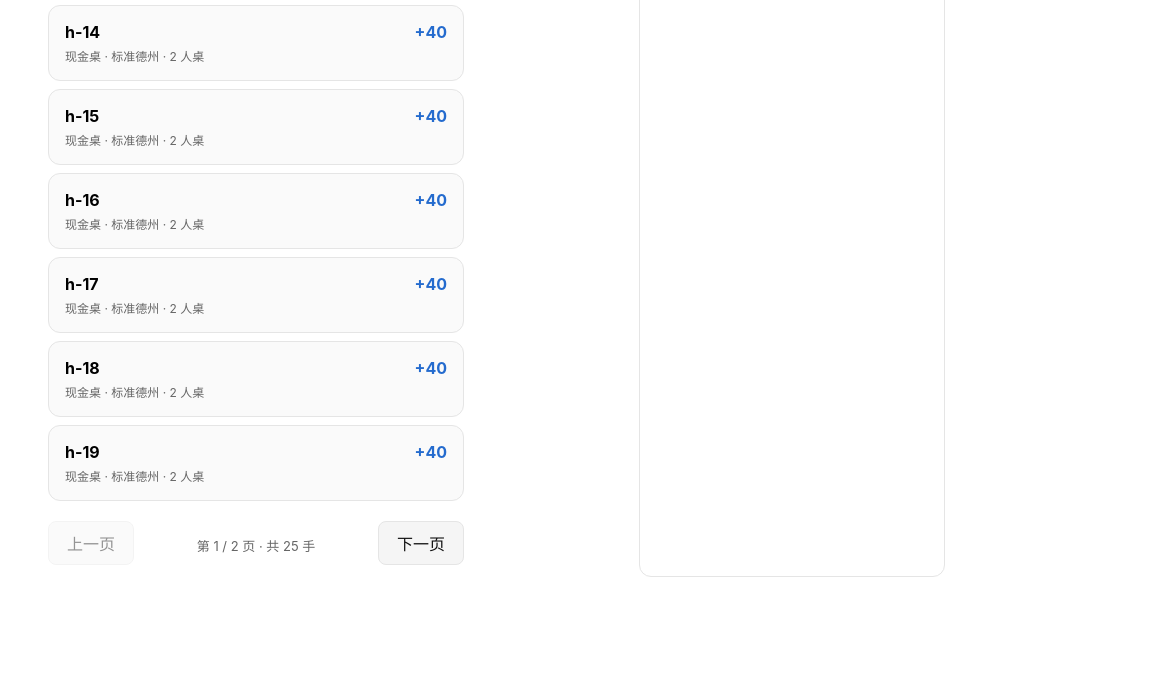
Test: full functional acceptance regressions › makes the oldest retained history accessible through pagination
(page scrolled)
Click the button "下一页" at x=421, y=543, box [378, 521, 464, 565]
(page scrolled)
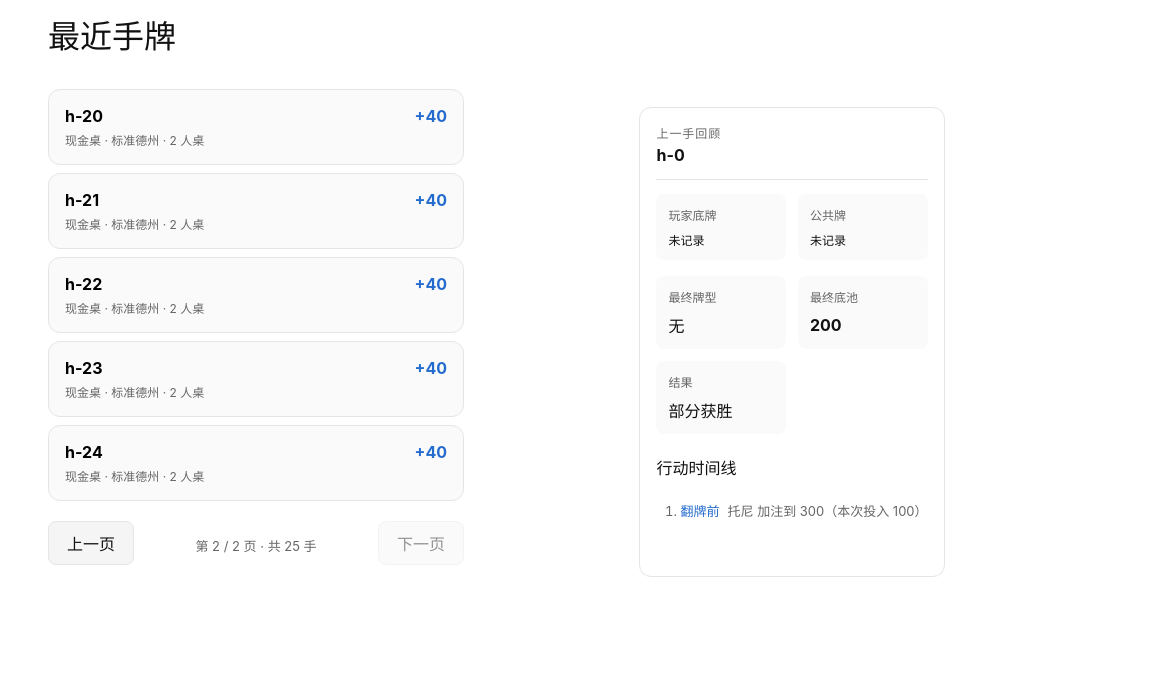
Expected: the number of buttons with class "history-row" is 5
Click the button with class "history-row" showing "h-20 现金桌 · 标准德州 · 2 人桌 +40" at x=84, y=116, box [48, 89, 464, 165]
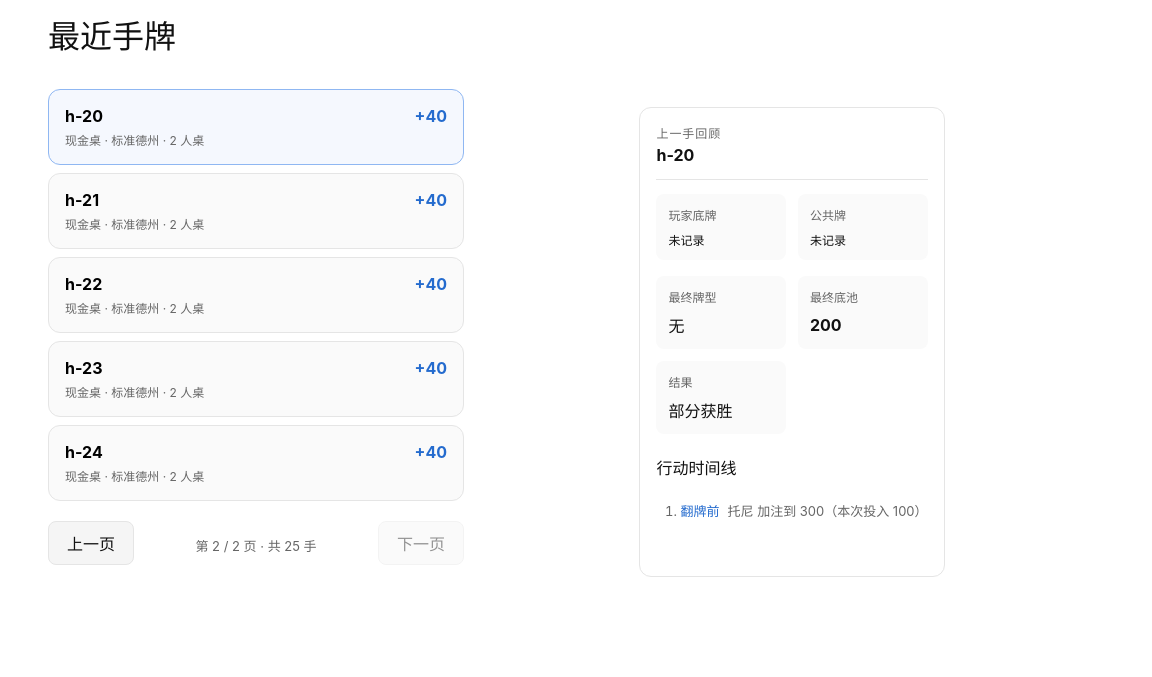
Expected: the element with class "hand-review" shows "h-20", [656, 145, 694, 165]
